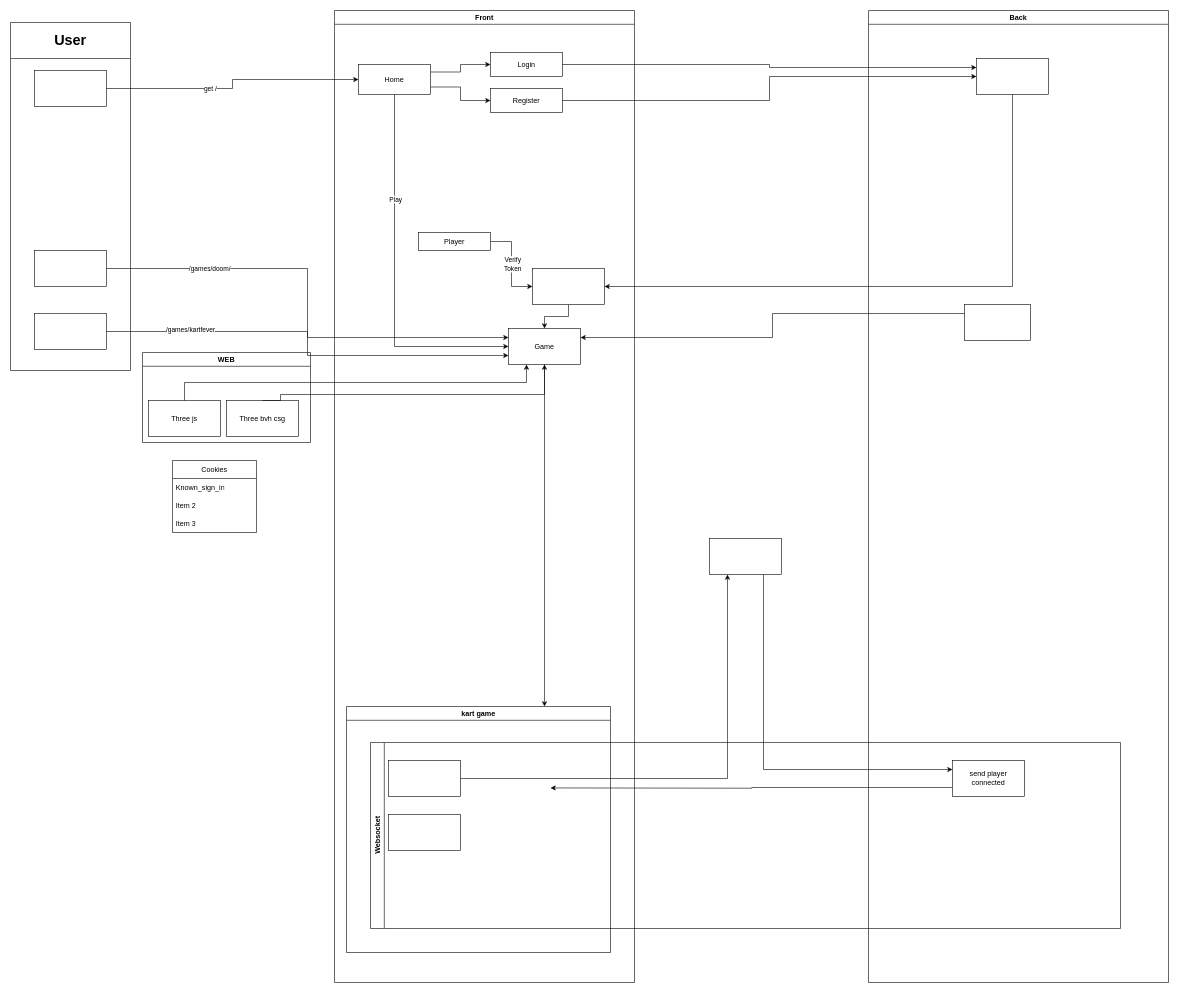
This 1179x993 diagram has some shape labels left out. Here are the shapes that lost their labels. From the top down, the centre of each, then its label:
the point at 70,88: open website
the point at 1012,76: Authentification
the point at 568,286: Token
the point at 70,331: play kart
the point at 997,322: Game map
the point at 745,556: Auth middleware
the point at 424,778: on_open
the point at 424,832: on_message
